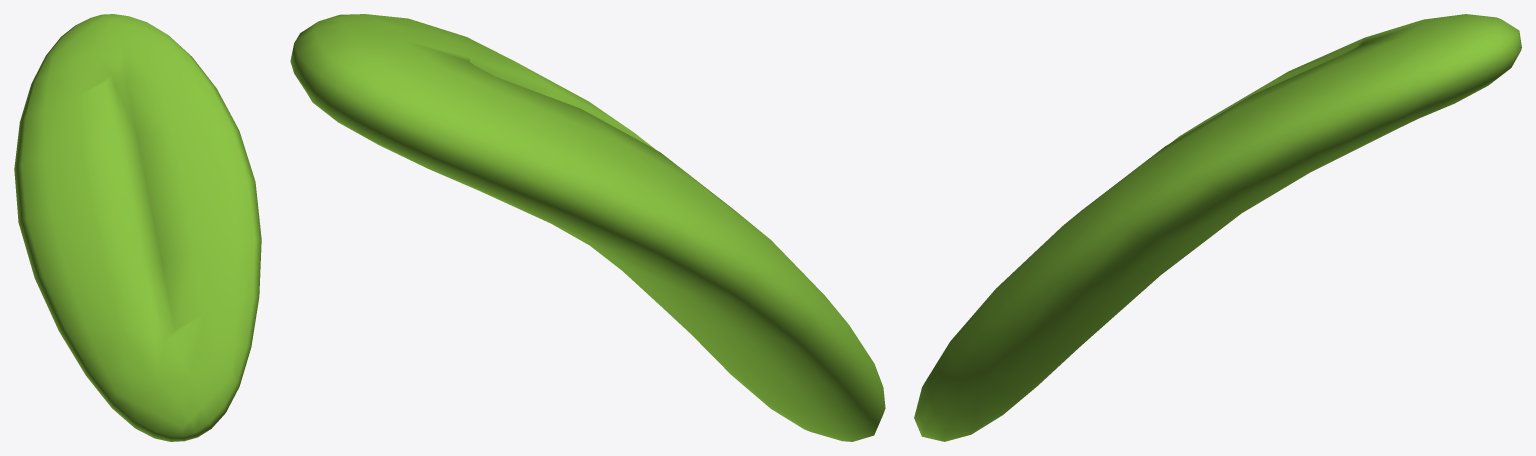
Rendered from Farmhouse_particle_leave_v01.glb.
3 views of the same model, side by side, from view 1: azimuth 30°, elevation 25°; view 2: azimuth 150°, elevation 25°; view 3: azimuth 270°, elevation 25° (orthographic). The views are drawn at different scales.
Parts seen in each view (by area): view 1: Farmhouse_particle_leave_v01; view 2: Farmhouse_particle_leave_v01; view 3: Farmhouse_particle_leave_v01.
Part boxes in pixels (box(x1,y1,x2,y2)): Farmhouse_particle_leave_v01: box(14, 14, 261, 441); Farmhouse_particle_leave_v01: box(290, 14, 885, 441); Farmhouse_particle_leave_v01: box(914, 14, 1521, 441).
Bounding box in the file's own units: 0.0739 × 0.0978 × 0.1126.
